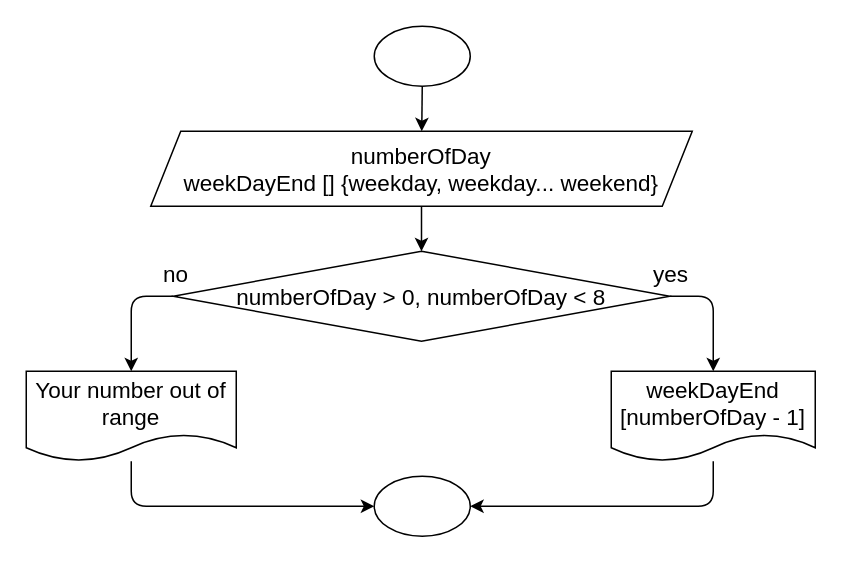
Image size: 842x563. Some labels were removed from this diagram. The shapes that lost their labels are listed below. From the top down, each one's centre as x and y in pixels, then its label:
point (421, 55): start
point (421, 505): end
